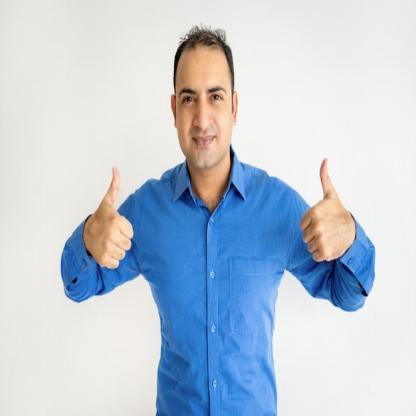thumb_up: (298, 154, 351, 262), (88, 165, 134, 273)
